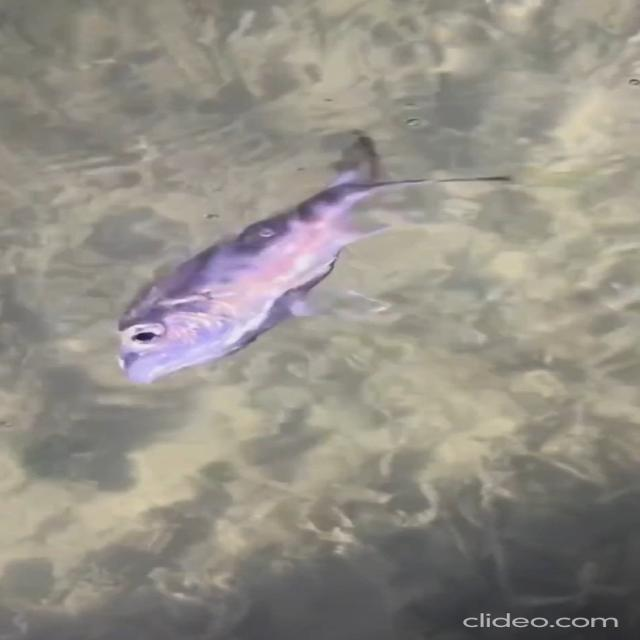fish: (95, 134, 528, 390)
